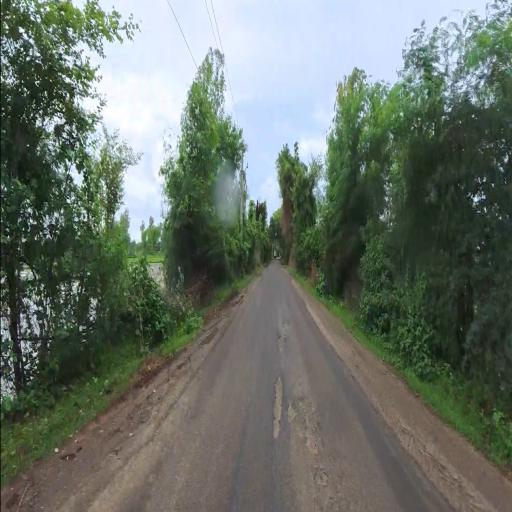ravelling: (265, 291, 332, 512)
